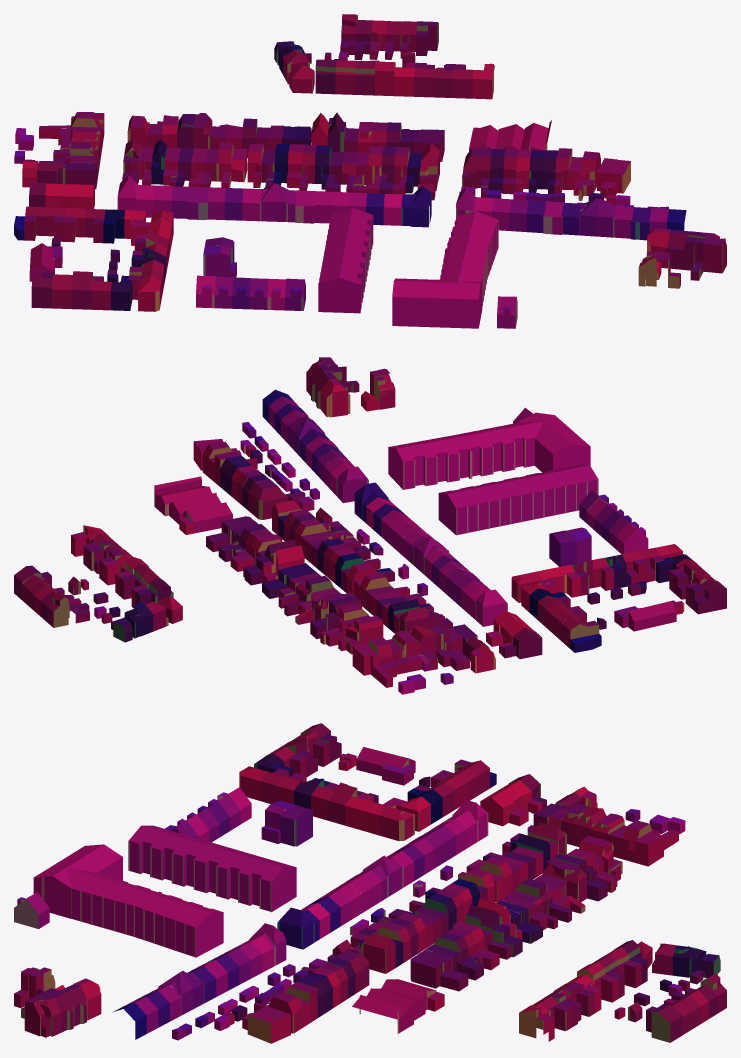
Rendered from buildings_4_8.glb.
The picture shows the model from 3 angles, top to bottom: view 1: azimuth 30°, elevation 25°; view 2: azimuth 150°, elevation 25°; view 3: azimuth 270°, elevation 25°; orthographic projection. The views are drawn at different scales.
Visible parts, largest first — view 1: buildings_4_8; view 2: buildings_4_8; view 3: buildings_4_8.
Boxes of the visible parts, bbox=[...] form: buildings_4_8: bbox=[14, 14, 726, 328]; buildings_4_8: bbox=[14, 357, 726, 694]; buildings_4_8: bbox=[14, 723, 726, 1043].
Size of the model in its own units: 204 by 12.04 by 207.
